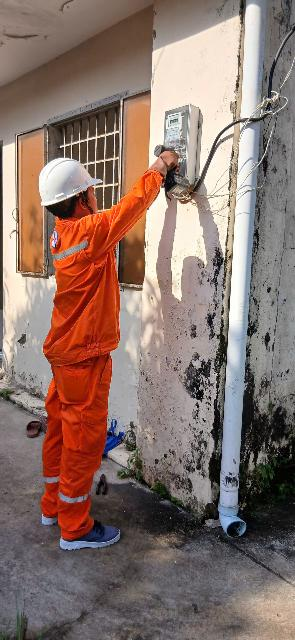gloves: (134, 148, 191, 182)
helmet: (27, 153, 108, 204)
shoes: (50, 521, 130, 550)
